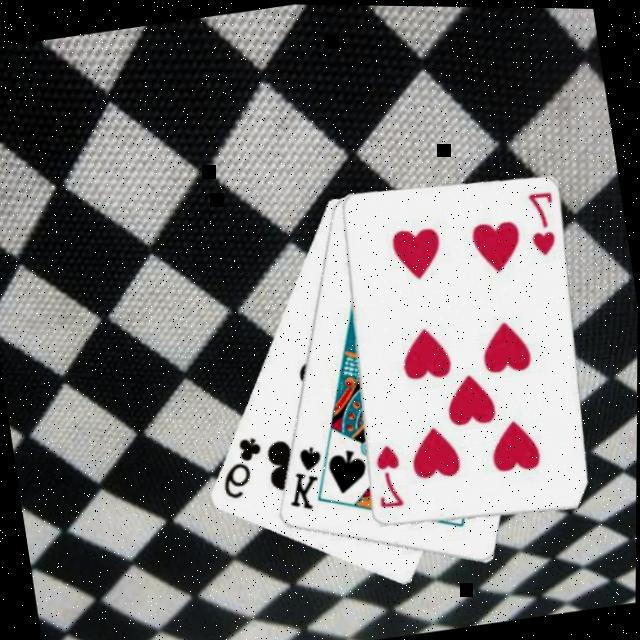6C: (213, 434, 271, 506)
7H: (521, 188, 563, 260), (368, 441, 409, 514)
KS: (278, 443, 332, 518)
